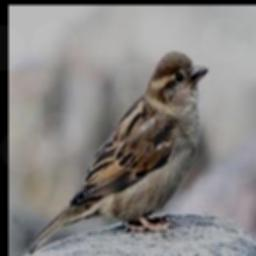Sparrow: (26, 51, 207, 254)
